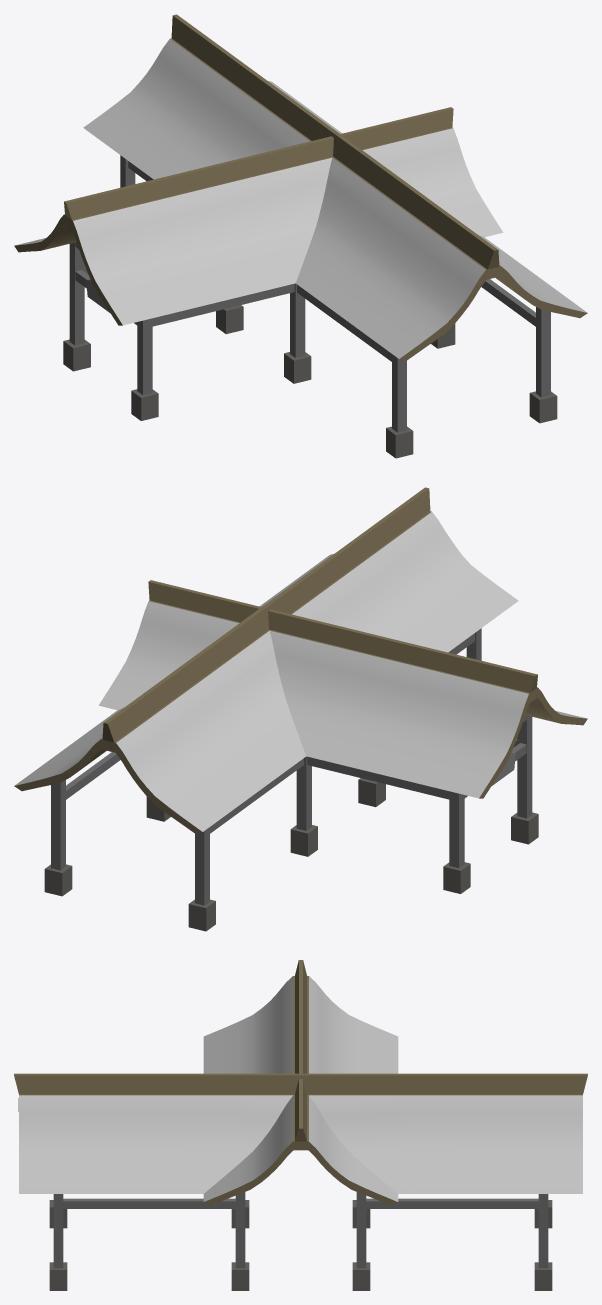
Rendered from roofed_corridor_2.fbx.
3 views of the same model, one above another, from view 1: azimuth 30°, elevation 25°; view 2: azimuth 150°, elevation 25°; view 3: azimuth 270°, elevation 25° (orthographic). The views are drawn at different scales.
Visible parts, largest first — view 1: roofed_corridor2; view 2: roofed_corridor2; view 3: roofed_corridor2.
Part boxes in pixels (bbox=[...]): roofed_corridor2: bbox=[14, 14, 587, 458]; roofed_corridor2: bbox=[14, 487, 587, 931]; roofed_corridor2: bbox=[14, 960, 587, 1290].
Size of the model in its own units: 1138 by 570 by 1637.
